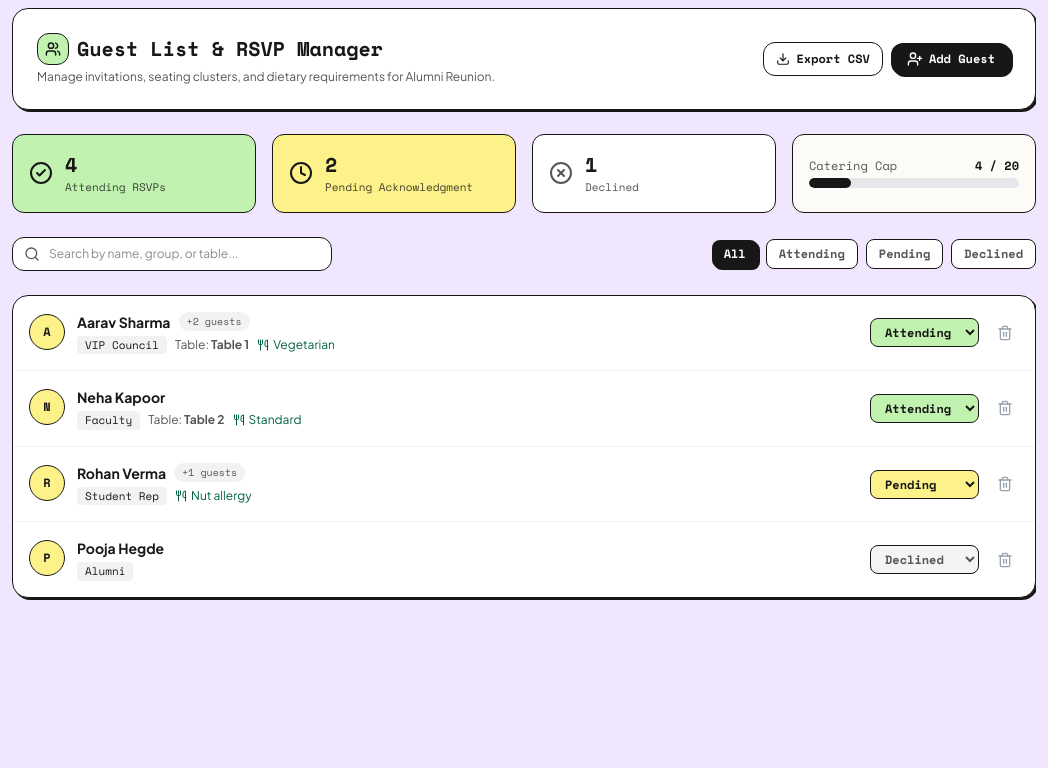
Scenario: Guest RSVP Counts & Management › filters guest list by search query on name, group, or table
The width and height of the screenshot is (1048, 768).
Note: Search by group name "Faculty"
Type "Faculty" into the field with placeholder "Search by name, group, or table..." at point(172, 254), box [12, 236, 332, 270]
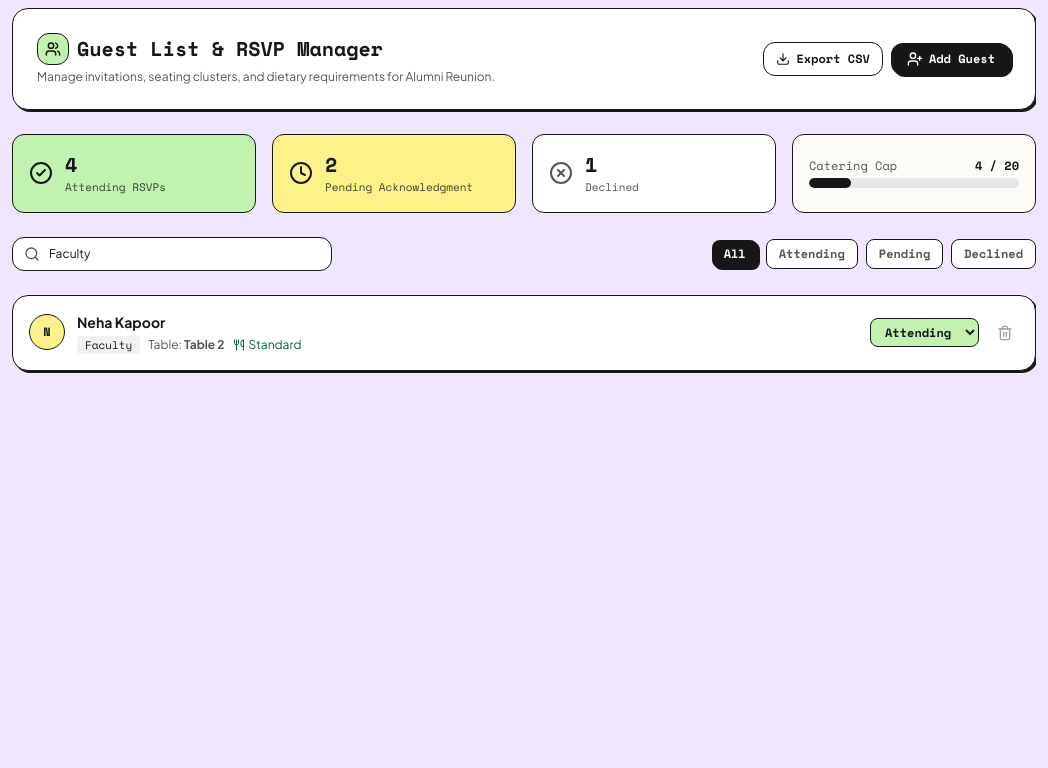
Expected: the text "Neha Kapoor" is shown, [77, 312, 165, 332]
Expected: the text "Aarav Sharma" is gone
Note: Search by guest name "Rohan"
Replace the text in the field with placeholder "Search by name, group, or table..." with "Rohan" at point(172, 254), box [12, 236, 332, 270]
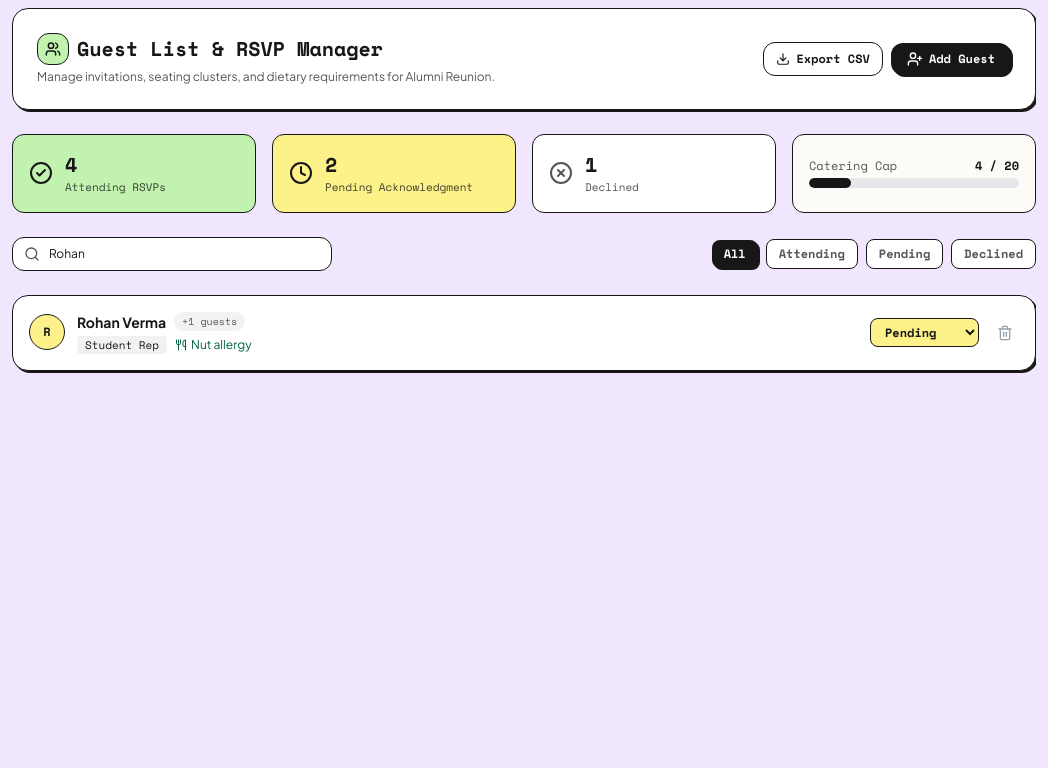
Expected: the text "Rohan Verma" is shown, [77, 312, 166, 332]
Expected: the text "Neha Kapoor" is gone
